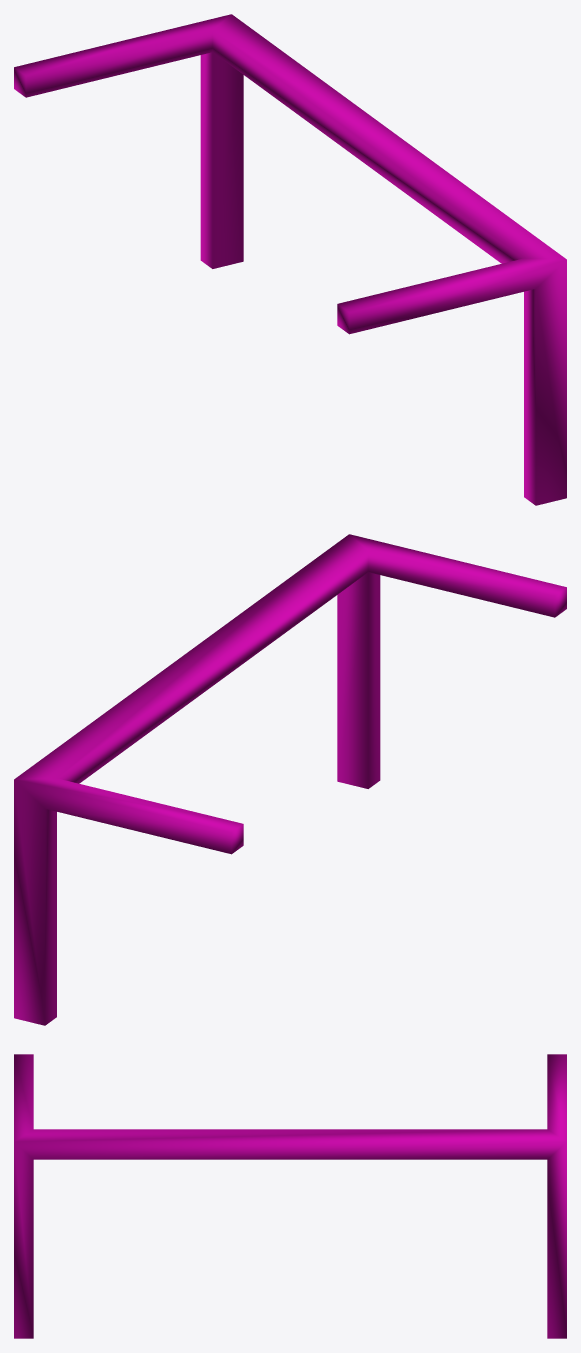
The model's file is Goalsopponentback.003.dae.
The picture shows the model from 3 angles, top to bottom: view 1: azimuth 30°, elevation 25°; view 2: azimuth 150°, elevation 25°; view 3: azimuth 270°, elevation 25°; orthographic projection. The views are drawn at different scales.
Visible parts, largest first — view 1: collision_0_field_1_8; view 2: collision_0_field_1_8; view 3: collision_0_field_1_8.
Part boxes in pixels (box(x1,y1,x2,y2)): collision_0_field_1_8: box(14, 14, 566, 505); collision_0_field_1_8: box(14, 534, 566, 1025); collision_0_field_1_8: box(14, 1054, 566, 1338).
Size of the model in its own units: 1.39 by 3.71 by 1.46.
